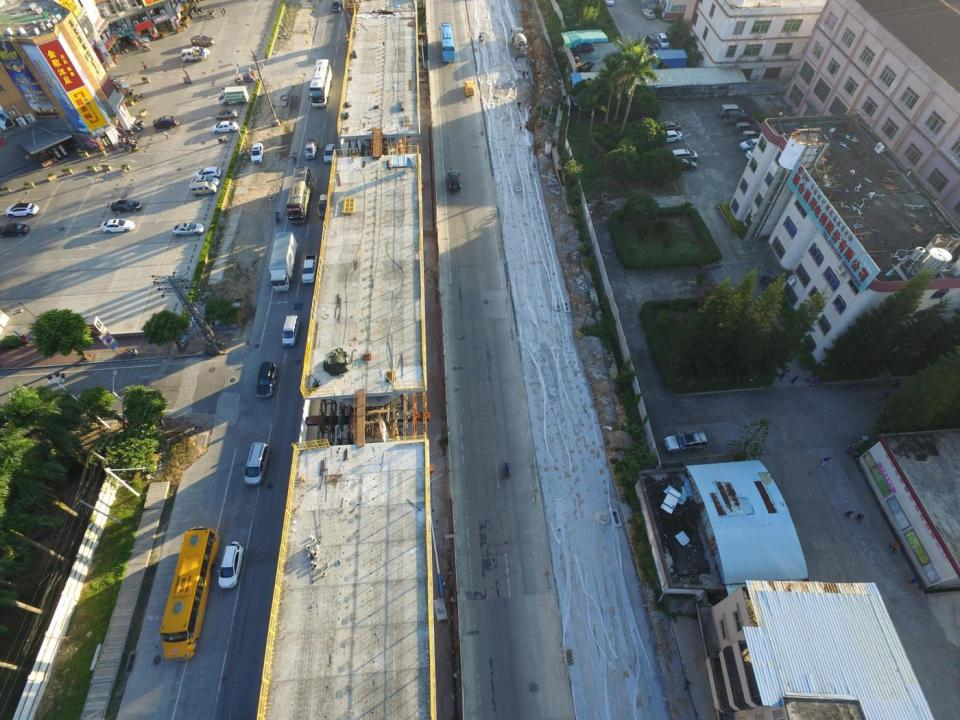bus: (158, 529, 222, 661), (284, 167, 314, 225), (307, 58, 335, 109), (439, 22, 456, 63), (509, 27, 526, 56)
car: (216, 540, 244, 590), (663, 430, 708, 455), (254, 359, 278, 398), (5, 202, 39, 218), (170, 221, 204, 236), (100, 218, 136, 232), (110, 199, 142, 214), (0, 222, 29, 238), (210, 120, 240, 134), (152, 115, 179, 130), (739, 137, 768, 150), (446, 169, 463, 191), (657, 130, 682, 143), (746, 148, 771, 161), (194, 166, 221, 178), (672, 158, 698, 170), (189, 35, 215, 47), (318, 193, 330, 219), (192, 175, 220, 186), (251, 142, 264, 164), (322, 144, 336, 164), (672, 149, 697, 160), (215, 108, 237, 120), (188, 46, 210, 58), (654, 121, 681, 130), (576, 43, 594, 54), (640, 7, 655, 20), (464, 80, 475, 96), (331, 0, 342, 12)
truck: (268, 231, 299, 292), (217, 86, 249, 106), (301, 253, 318, 283), (304, 134, 319, 160), (180, 48, 206, 62), (725, 109, 747, 123)
van: (242, 441, 272, 486), (280, 314, 300, 347), (190, 181, 216, 196), (718, 102, 736, 116), (740, 129, 761, 140), (733, 122, 753, 133), (646, 32, 658, 50), (657, 32, 669, 49)
